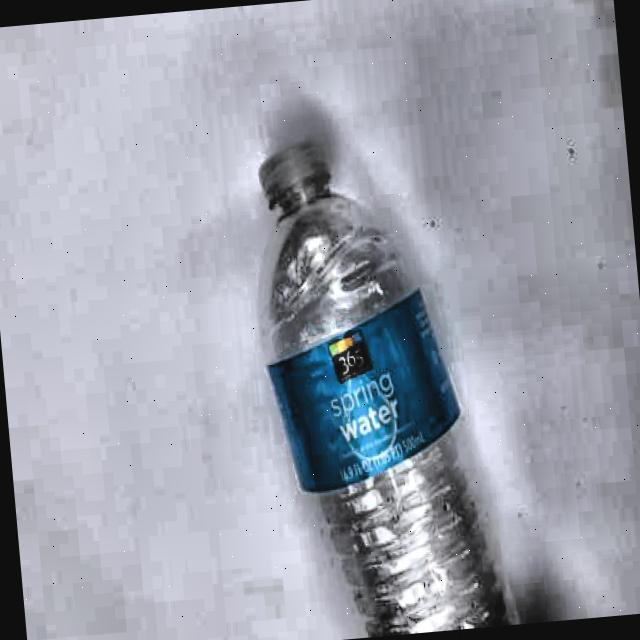plastic: (247, 120, 528, 640)
